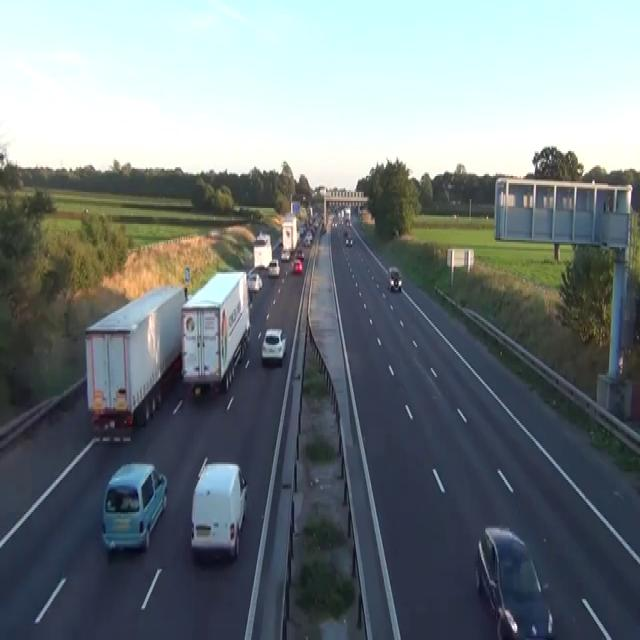Car: (474, 524, 554, 638), (101, 460, 167, 553), (190, 457, 248, 562), (260, 327, 286, 363), (388, 266, 402, 292), (246, 272, 262, 292), (267, 258, 280, 277), (256, 230, 269, 246), (292, 258, 302, 274), (280, 249, 290, 261), (207, 230, 222, 238), (272, 238, 282, 249), (303, 233, 312, 245), (296, 247, 304, 260), (345, 237, 353, 247), (248, 292, 253, 308), (331, 218, 338, 228), (320, 222, 326, 233), (302, 237, 309, 246), (299, 226, 305, 234), (345, 217, 350, 226), (343, 228, 348, 236), (278, 238, 282, 247)
Truck: (84, 283, 188, 430), (180, 270, 251, 396), (252, 231, 272, 269), (281, 214, 299, 252)
